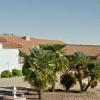Palm tree: (21, 40, 64, 96)
